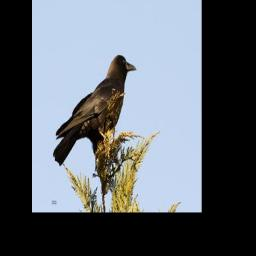Crow: (52, 51, 138, 171)
